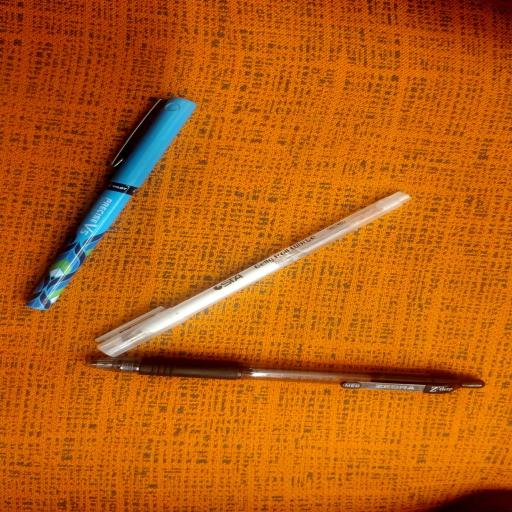pen: (97, 192, 410, 356), (27, 98, 196, 309), (88, 357, 484, 393)
